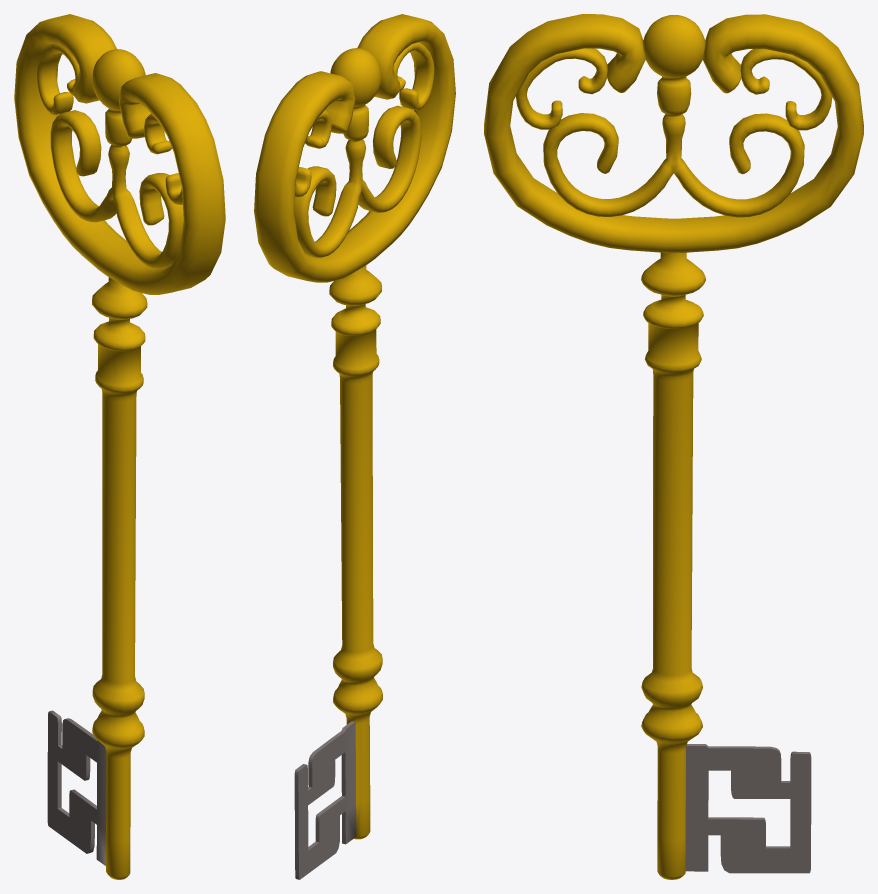
Rendered from MedievalKey4.fbx.
3 renders of one model, left to right at view 1: azimuth 30°, elevation 25°; view 2: azimuth 150°, elevation 25°; view 3: azimuth 270°, elevation 25°, orthographic. The views are drawn at different scales.
Parts seen in each view (by area): view 1: MedievalGoldenKey; view 2: MedievalGoldenKey; view 3: MedievalGoldenKey.
Part boxes in pixels (x1,y1,x2,y2): MedievalGoldenKey: [14, 14, 225, 879]; MedievalGoldenKey: [254, 14, 455, 879]; MedievalGoldenKey: [484, 14, 863, 879].
Bounding box in the file's own units: 12.08 × 200 × 80.
